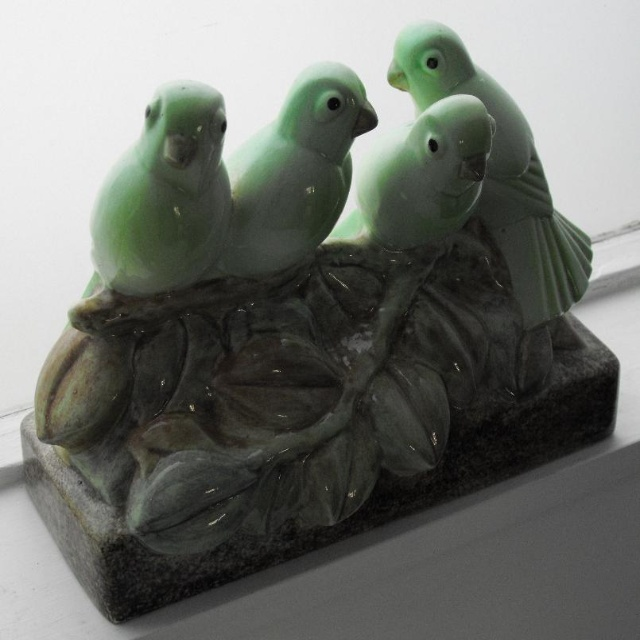Parrot: (63, 21, 594, 333)
